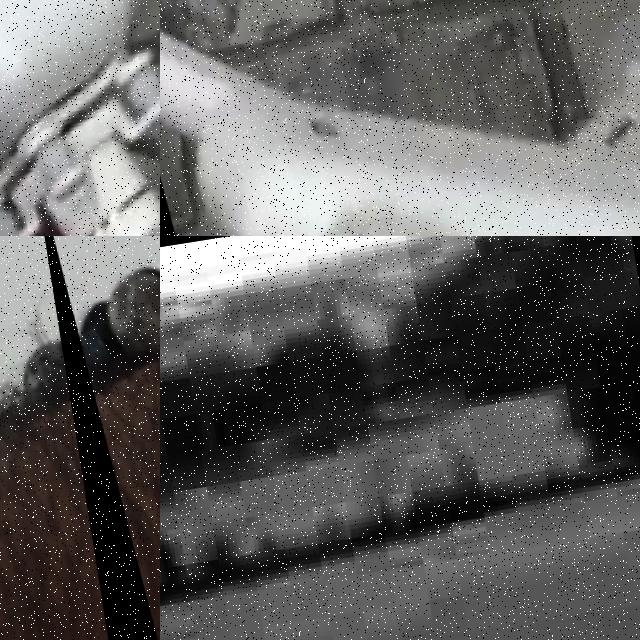drone: (160, 0, 640, 236), (31, 236, 160, 640), (0, 0, 160, 236)
